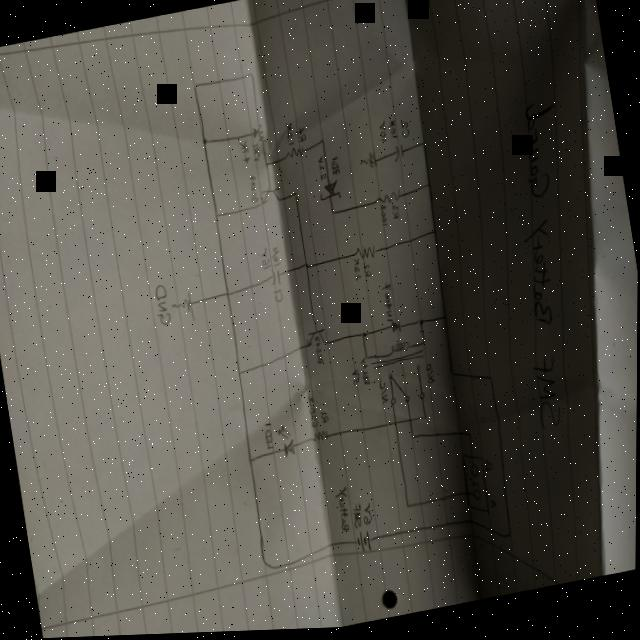capacitor: (269, 270, 283, 290), (391, 147, 405, 166)
crossover: (392, 423, 399, 430), (407, 421, 413, 429)
diode: (278, 425, 299, 463), (317, 184, 341, 207), (390, 324, 403, 338)
ground: (171, 292, 195, 326), (357, 152, 378, 175)
junction: (261, 559, 273, 574), (200, 139, 209, 150), (224, 290, 231, 301), (247, 74, 255, 83), (404, 504, 411, 514), (237, 371, 244, 381), (330, 212, 337, 221), (421, 143, 428, 152), (248, 458, 255, 467), (418, 322, 425, 331), (213, 213, 220, 222), (192, 84, 199, 93), (361, 334, 368, 343), (507, 535, 514, 544), (304, 264, 311, 273), (426, 184, 432, 194), (488, 379, 494, 388), (443, 317, 449, 326), (432, 232, 438, 241), (450, 373, 456, 382), (410, 436, 416, 444), (467, 434, 472, 443), (422, 418, 428, 425), (263, 164, 269, 171), (294, 192, 299, 200), (320, 142, 325, 149)
resistor: (376, 191, 402, 210), (354, 248, 377, 266), (251, 123, 267, 148), (311, 431, 331, 448), (286, 148, 307, 164)
source: (353, 532, 374, 559)
terminal: (472, 492, 483, 506), (470, 468, 480, 483)
text: (487, 101, 607, 450), (152, 283, 173, 330), (334, 489, 353, 537), (381, 284, 397, 327), (306, 396, 320, 433), (263, 423, 276, 455), (247, 175, 260, 207), (352, 505, 366, 534), (313, 341, 325, 371), (361, 505, 375, 530), (359, 361, 371, 390), (238, 141, 251, 167), (284, 123, 296, 150), (424, 366, 437, 390), (351, 260, 363, 285), (378, 383, 390, 408), (316, 158, 327, 184), (387, 122, 399, 145), (270, 248, 282, 270), (260, 249, 271, 272), (377, 123, 388, 146), (379, 207, 390, 230), (399, 122, 411, 143), (330, 160, 342, 181), (295, 128, 308, 147), (362, 263, 374, 282), (350, 371, 361, 391), (273, 290, 285, 307), (252, 145, 261, 166), (391, 207, 401, 225), (319, 413, 331, 427), (469, 481, 481, 494), (485, 463, 495, 478), (489, 503, 498, 515)
transistor: (257, 186, 284, 210), (304, 329, 327, 355)
